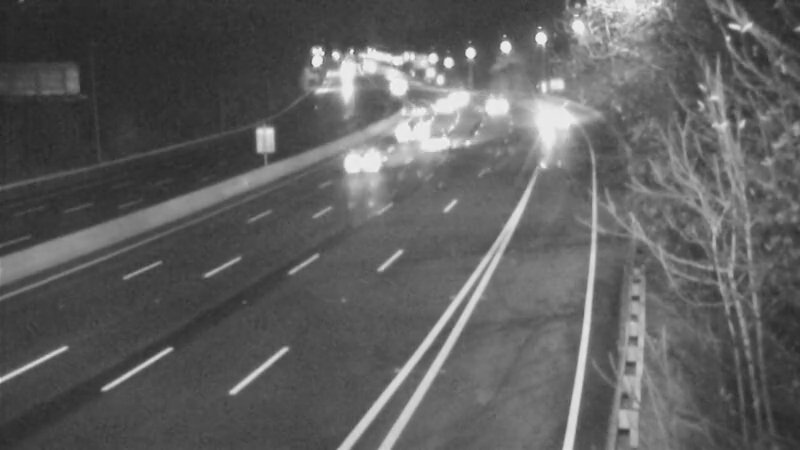vehicle: (324, 127, 404, 207), (435, 71, 485, 121), (474, 79, 524, 129), (419, 81, 469, 131), (389, 87, 439, 137), (522, 92, 572, 142), (385, 105, 435, 155), (414, 114, 464, 164)
